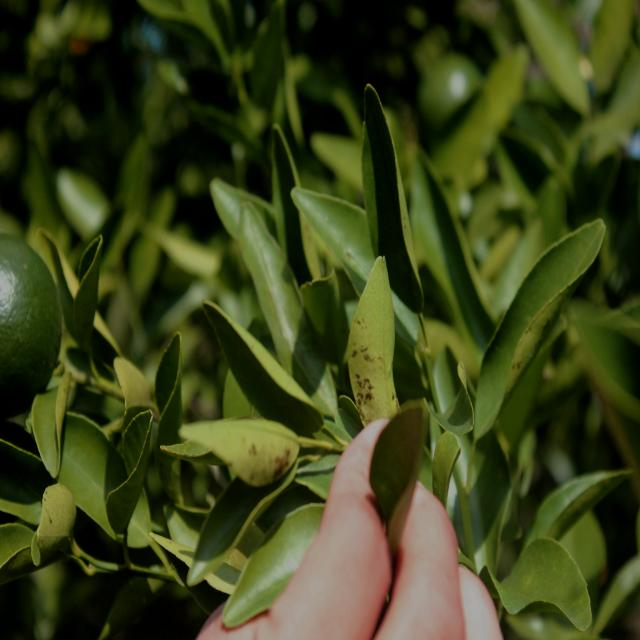melanose: (347, 262, 421, 429), (172, 408, 307, 487)
